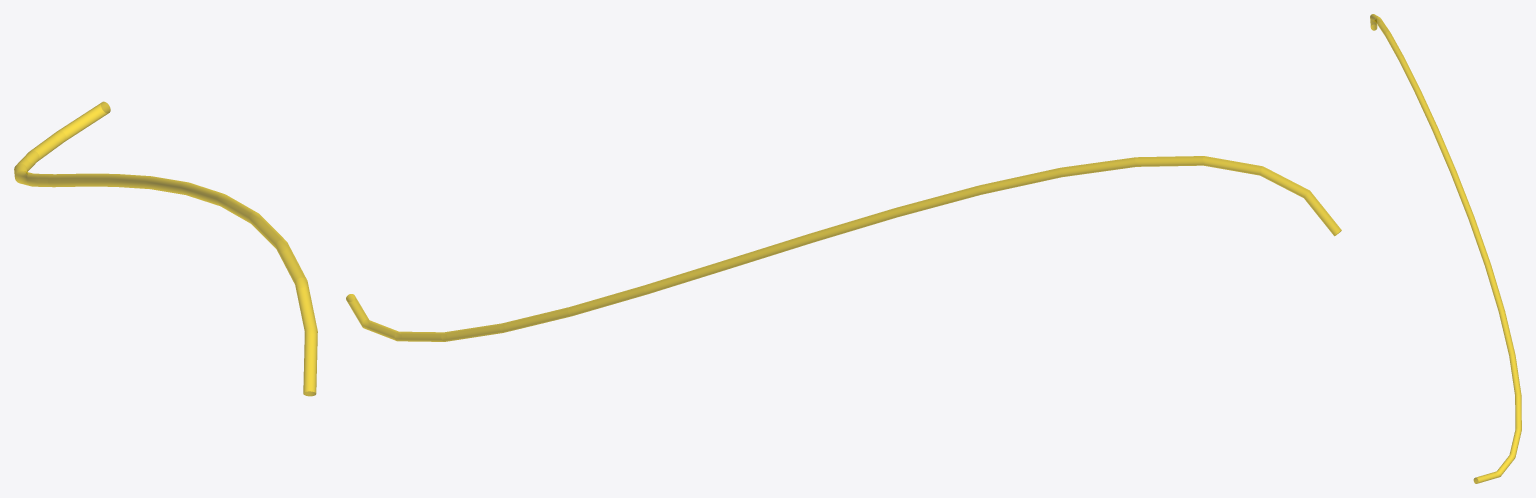
Rendered from Event_402970704_track_35.fbx.
3 renders of one model, left to right at view 1: azimuth 90°, elevation 25°; view 2: azimuth 150°, elevation 25°; view 3: azimuth 270°, elevation 25°, orthographic. The views are drawn at different scales.
Visible parts, largest first — view 1: Model; view 2: Model; view 3: Model.
Boxes of the visible parts, <box> form: Model: <box>14,101,317,396</box>; Model: <box>346,156,1341,341</box>; Model: <box>1370,14,1521,483</box>.
Bounding box in the file's own units: 4.35 × 1.34 × 0.9309.
